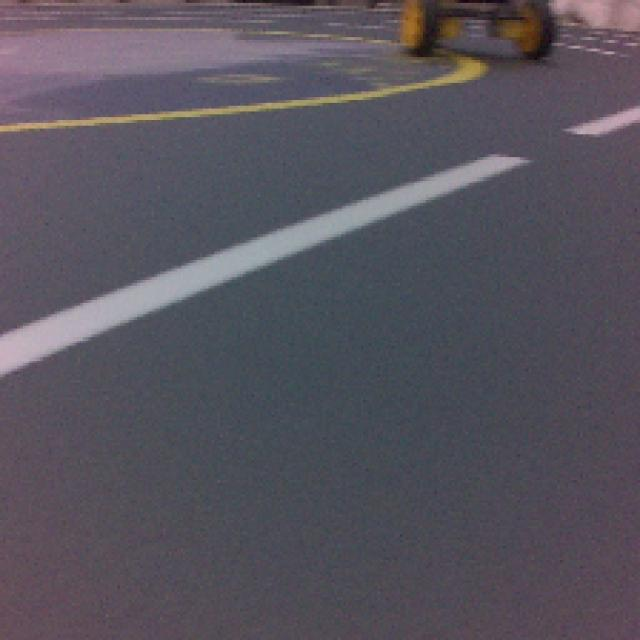Road: (0, 310, 640, 640)
